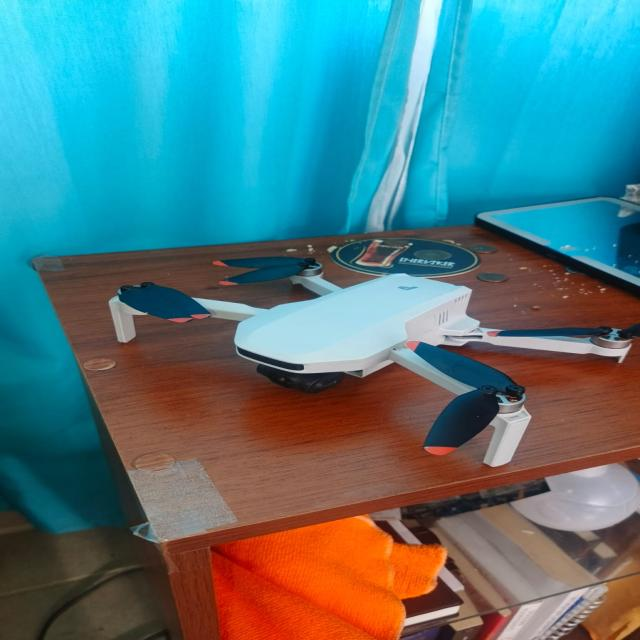dron: (94, 226, 640, 477)
